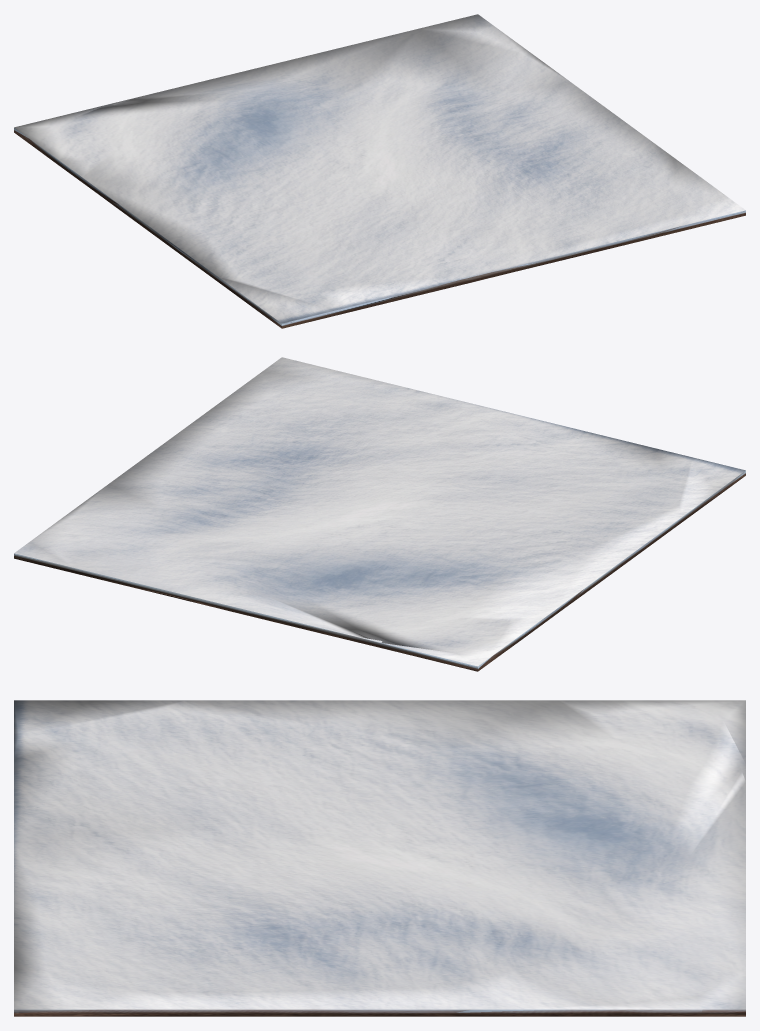
The model's file is snow-ground-lod1.glb.
3 renders of one model, top to bottom at view 1: azimuth 30°, elevation 25°; view 2: azimuth 150°, elevation 25°; view 3: azimuth 270°, elevation 25°, orthographic. The views are drawn at different scales.
Visible parts, largest first — view 1: snow-ground.002; view 2: snow-ground.002; view 3: snow-ground.002.
Part boxes in pixels (x1=…): snow-ground.002: x1=14, y1=14, x2=745, y2=328; snow-ground.002: x1=14, y1=357, x2=745, y2=671; snow-ground.002: x1=14, y1=700, x2=745, y2=1016.
Bounding box in the file's own units: 32 × 0.4079 × 32.
2 materials, 2 textured.
